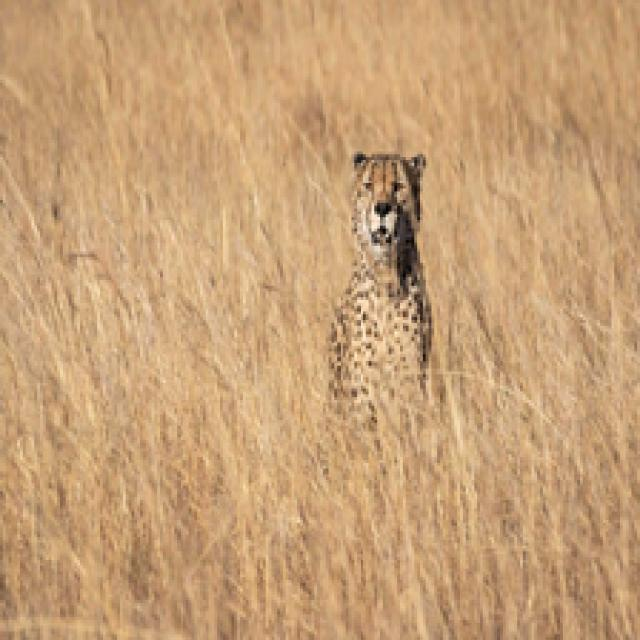cheetah: (313, 135, 474, 444)
